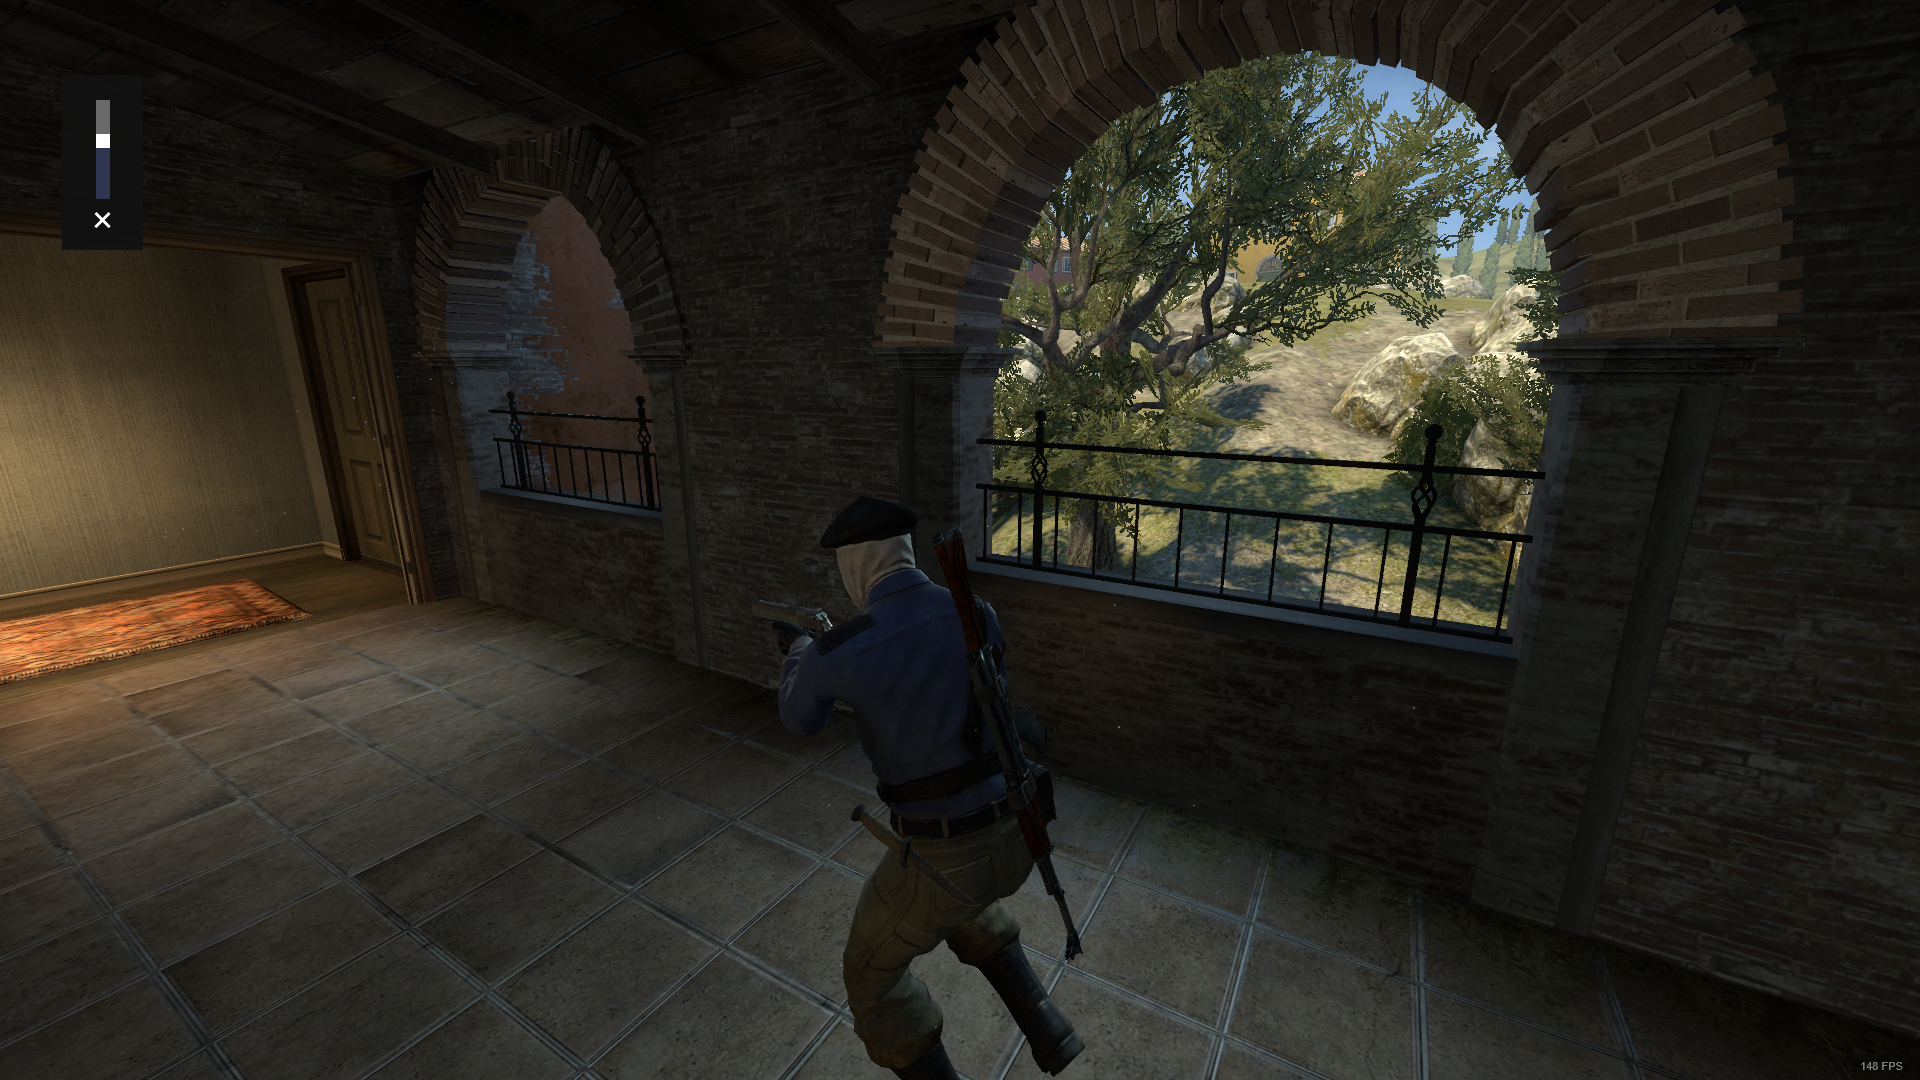t: (769, 491, 1102, 1080)
